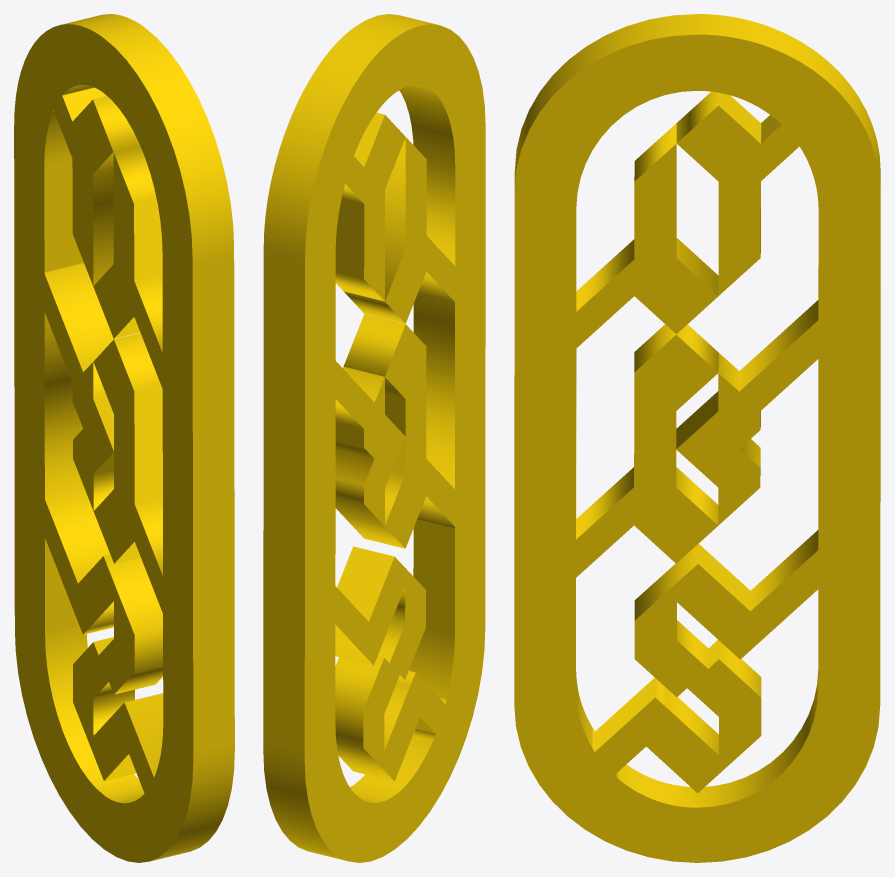
Rendered from totem-obs-gold.gltf.
The picture shows the model from 3 angles, left to right: view 1: azimuth 30°, elevation 25°; view 2: azimuth 150°, elevation 25°; view 3: azimuth 270°, elevation 25°; orthographic projection.
Parts seen in each view (by area): view 1: Curve; view 2: Curve; view 3: Curve.
Boxes of the visible parts, x1,y1,x2,y2 form: Curve: (14, 14, 234, 862); Curve: (263, 14, 485, 862); Curve: (514, 14, 880, 862).
Bounding box in the file's own units: 0.1397 × 2.51 × 1.01.
